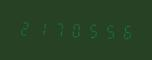five: (97, 20, 112, 41), (81, 20, 96, 40)
one: (33, 18, 48, 39)
seven: (49, 19, 64, 39)
six: (113, 21, 128, 41)
two: (17, 17, 32, 38)
zero: (65, 19, 80, 40)
